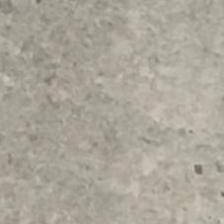Non_Crack: (18, 46, 203, 188)
